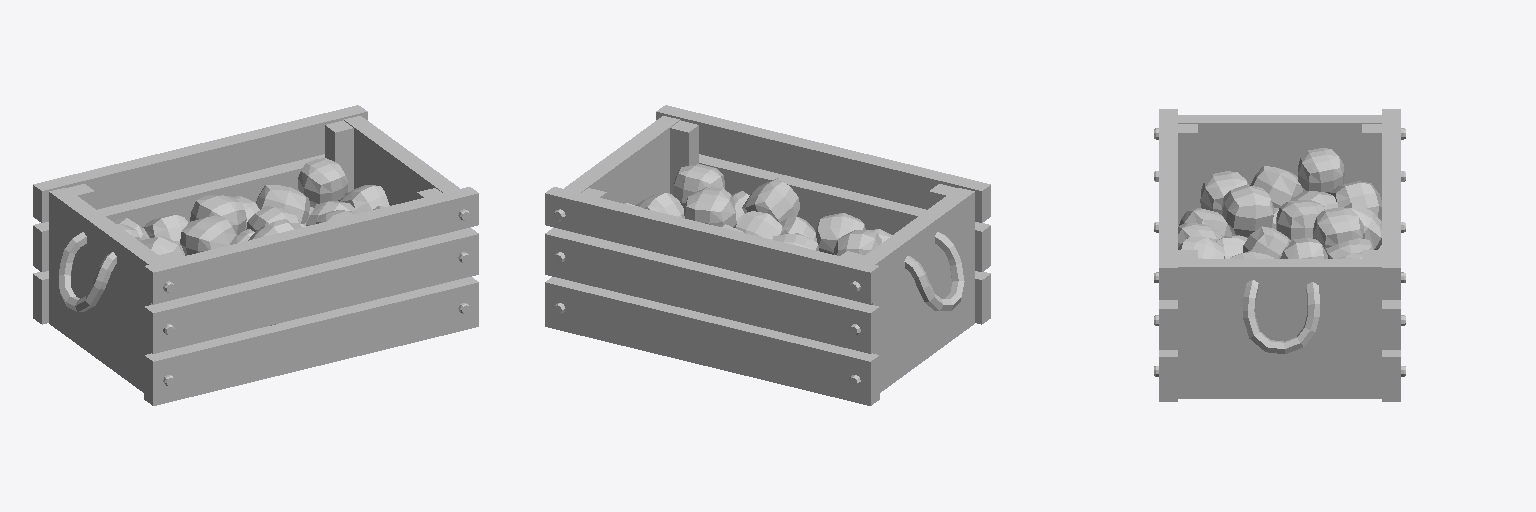
The model's file is FarmCrate_Apple.obj.
3 renders of one model, left to right at view 1: azimuth 30°, elevation 25°; view 2: azimuth 150°, elevation 25°; view 3: azimuth 270°, elevation 25°, orthographic.
Parts seen in each view (by area): view 1: FarmCrate_Apple_Cylinder.057; view 2: FarmCrate_Apple_Cylinder.057; view 3: FarmCrate_Apple_Cylinder.057.
Boxes of the visible parts, x1,y1,x2,y2 form: FarmCrate_Apple_Cylinder.057: [33, 105, 478, 405]; FarmCrate_Apple_Cylinder.057: [545, 105, 990, 405]; FarmCrate_Apple_Cylinder.057: [1154, 109, 1405, 401].
Size of the model in its own units: 0.7138 by 0.2438 by 0.4142.